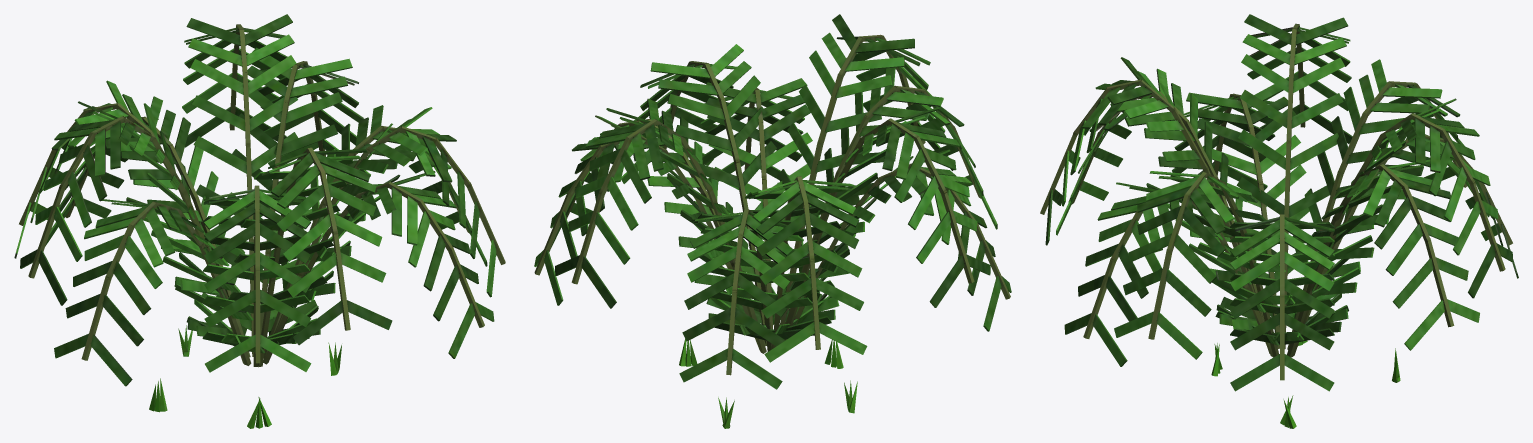
File: salak_tree.glb
3 renders of one model, left to right at view 1: azimuth 30°, elevation 25°; view 2: azimuth 150°, elevation 25°; view 3: azimuth 270°, elevation 25°, orthographic. The views are drawn at different scales.
Visible parts, largest first — view 1: crown, salak_tree; view 2: crown, salak_tree; view 3: crown, salak_tree.
Part boxes in pixels (x1,y1,x2,y2): crown: [14, 14, 505, 386]; salak_tree: [149, 325, 341, 428]; crown: [534, 14, 1011, 389]; salak_tree: [679, 339, 857, 428]; crown: [1040, 14, 1518, 391]; salak_tree: [1211, 340, 1400, 428].
Size of the model in its own units: 1.31 by 0.8909 by 1.29.
Materials: 1 (1 with a texture image).
